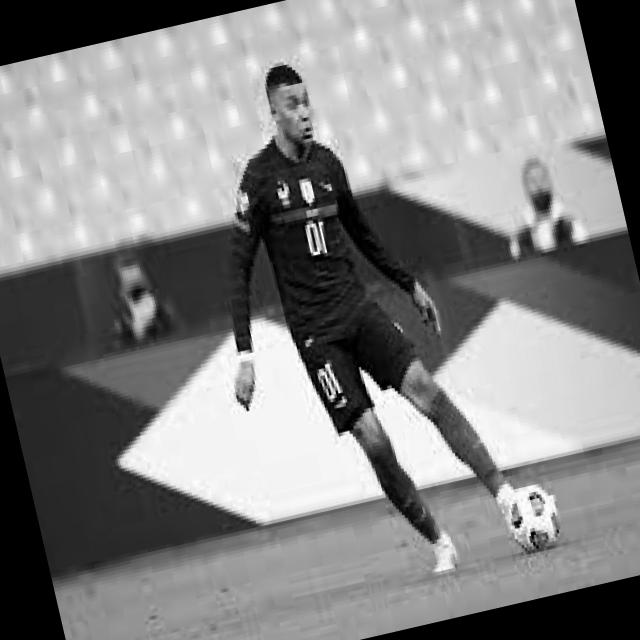football: (496, 467, 568, 563)
